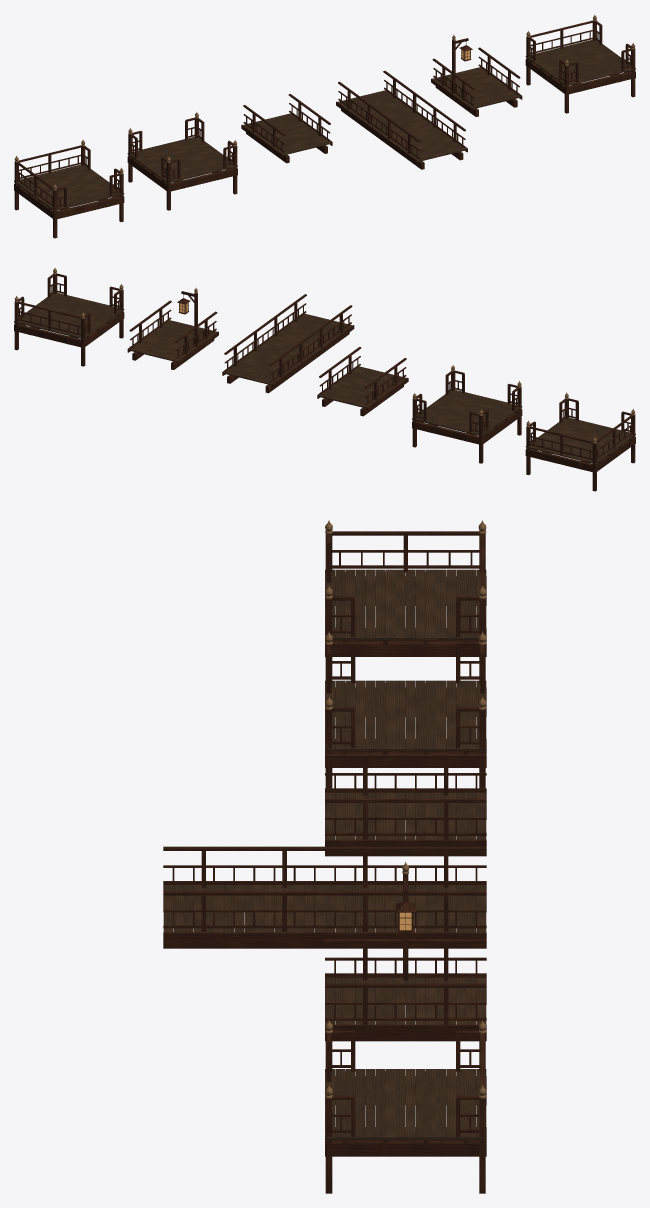
The model's file is bridges_walkways.glb.
3 views of the same model, one above another, from view 1: azimuth 30°, elevation 25°; view 2: azimuth 150°, elevation 25°; view 3: azimuth 270°, elevation 25° (orthographic). The views are drawn at different scales.
Visible parts, largest first — view 1: IC07_Bridge_Straight_8m__Mesh, IC07_Bridge_Tee__Mesh, IC07_Bridge_Corner__Mesh, IC07_Bridge_Cross__Mesh, IC07_Bridge_Straight_Lantern__Mesh, IC07_Bridge_Straight__Mesh; view 2: IC07_Bridge_Straight_8m__Mesh, IC07_Bridge_Cross__Mesh, IC07_Bridge_Corner__Mesh, IC07_Bridge_Tee__Mesh, IC07_Bridge_Straight_Lantern__Mesh, IC07_Bridge_Straight__Mesh; view 3: IC07_Bridge_Straight_8m__Mesh, IC07_Bridge_Corner__Mesh, IC07_Bridge_Tee__Mesh, IC07_Bridge_Cross__Mesh, IC07_Bridge_Straight_Lantern__Mesh, IC07_Bridge_Straight__Mesh.
Boxes of the visible parts, box(x1,y1,x2,y2) form: IC07_Bridge_Straight_8m__Mesh: box(336, 70, 467, 169); IC07_Bridge_Tee__Mesh: box(525, 14, 635, 113); IC07_Bridge_Corner__Mesh: box(14, 139, 124, 238); IC07_Bridge_Cross__Mesh: box(127, 112, 237, 210); IC07_Bridge_Straight_Lantern__Mesh: box(431, 34, 522, 116); IC07_Bridge_Straight__Mesh: box(241, 94, 332, 163); IC07_Bridge_Straight_8m__Mesh: box(222, 294, 354, 393); IC07_Bridge_Cross__Mesh: box(412, 365, 522, 463); IC07_Bridge_Corner__Mesh: box(525, 392, 635, 491); IC07_Bridge_Tee__Mesh: box(14, 267, 124, 366); IC07_Bridge_Straight_Lantern__Mesh: box(127, 287, 218, 369); IC07_Bridge_Straight__Mesh: box(317, 347, 408, 416); IC07_Bridge_Straight_8m__Mesh: box(163, 846, 486, 948); IC07_Bridge_Corner__Mesh: box(325, 520, 486, 656); IC07_Bridge_Tee__Mesh: box(325, 1020, 486, 1193); IC07_Bridge_Cross__Mesh: box(325, 631, 486, 788); IC07_Bridge_Straight_Lantern__Mesh: box(325, 862, 486, 1041); IC07_Bridge_Straight__Mesh: box(325, 754, 486, 856).
Bounding box in the file's own units: 33.27 × 4.76 × 8.
Materials: 5 (3 with a texture image).
